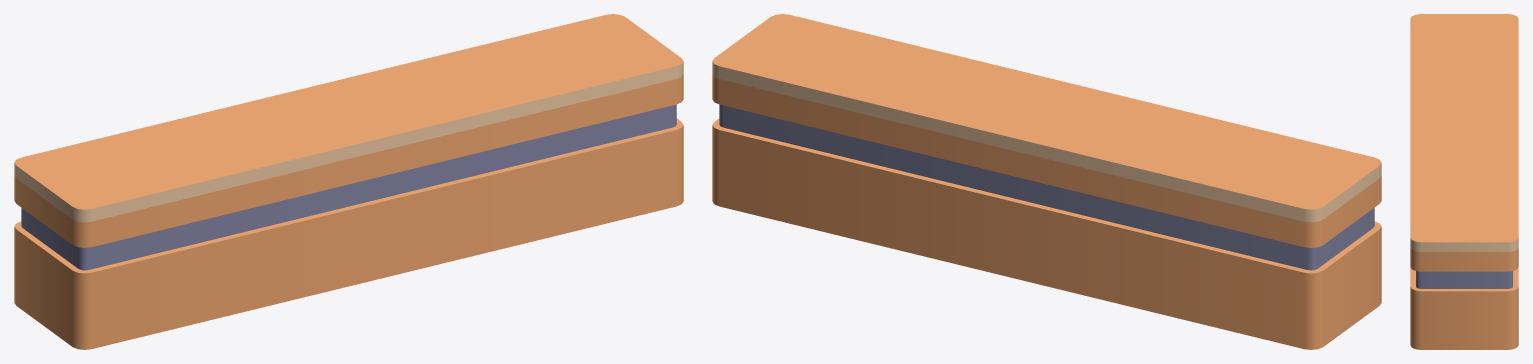
Rendered from planeRounded_1X5.fbx.
3 views of the same model, side by side, from view 1: azimuth 30°, elevation 25°; view 2: azimuth 150°, elevation 25°; view 3: azimuth 270°, elevation 25° (orthographic). The views are drawn at different scales.
Parts seen in each view (by area): view 1: planeRounded.1X5, planeRounded.1X5.002, planeRounded.1X5.001; view 2: planeRounded.1X5, planeRounded.1X5.001, planeRounded.1X5.002; view 3: planeRounded.1X5.001, planeRounded.1X5.002, planeRounded.1X5.
Part boxes in pixels (x1,y1,x2,y2): planeRounded.1X5: (14,74,683,349); planeRounded.1X5.002: (44,37,683,222); planeRounded.1X5.001: (14,14,652,198); planeRounded.1X5: (712,74,1381,349); planeRounded.1X5.001: (712,37,1351,222); planeRounded.1X5.002: (743,14,1381,198); planeRounded.1X5.001: (1464,14,1518,251); planeRounded.1X5.002: (1410,14,1464,251); planeRounded.1X5: (1410,248,1518,349).
Size of the model in its own units: 500 by 110 by 100.
